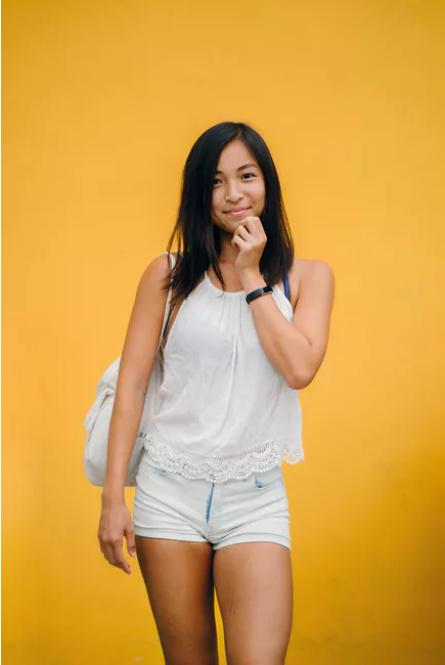face: (208, 141, 265, 232)
